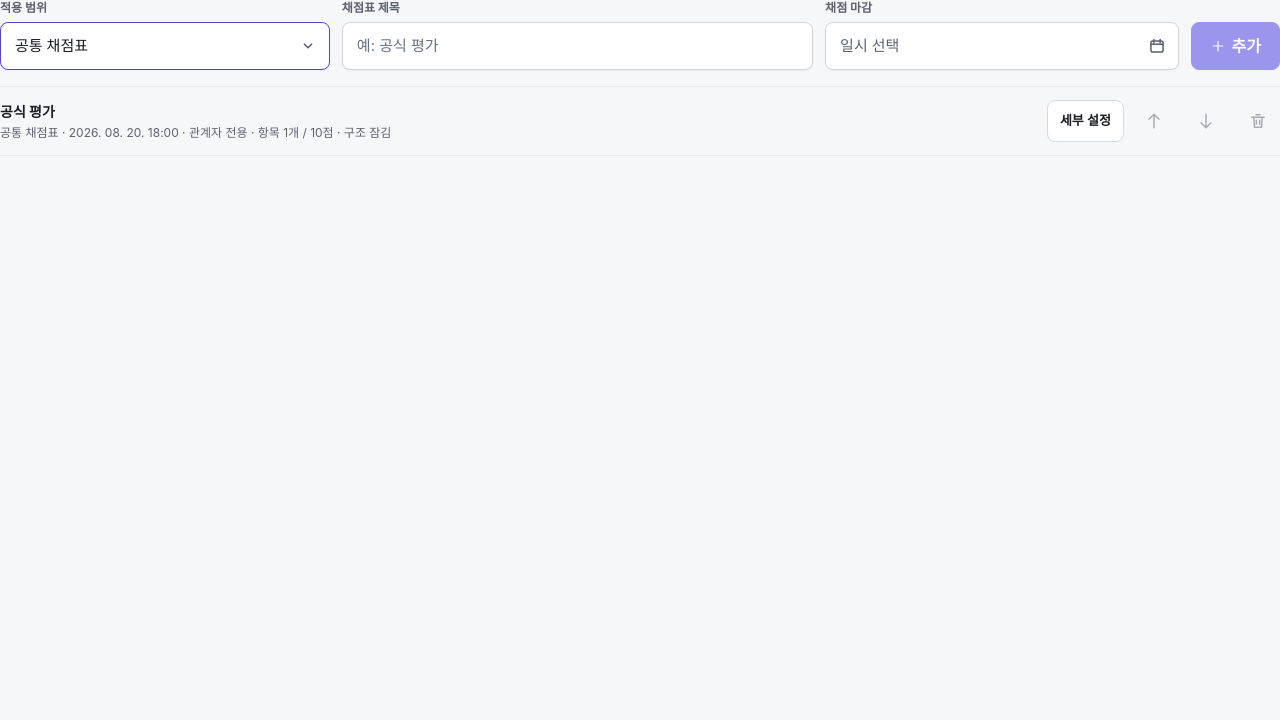
Scenario: RubricManager › 점수가 저장된 채점표는 구조 변경을 잠그되 세부 설정은 열 수 있다
Expected: the button named "공식 평가 채점표 삭제" is disabled, x1=1236 y1=99 x2=1279 y2=143
What coordinates should you click on to do the following:
click the button "세부 설정"
I would click on:
 (1085, 121)
Its box is x1=1047 y1=100 x2=1124 y2=142.
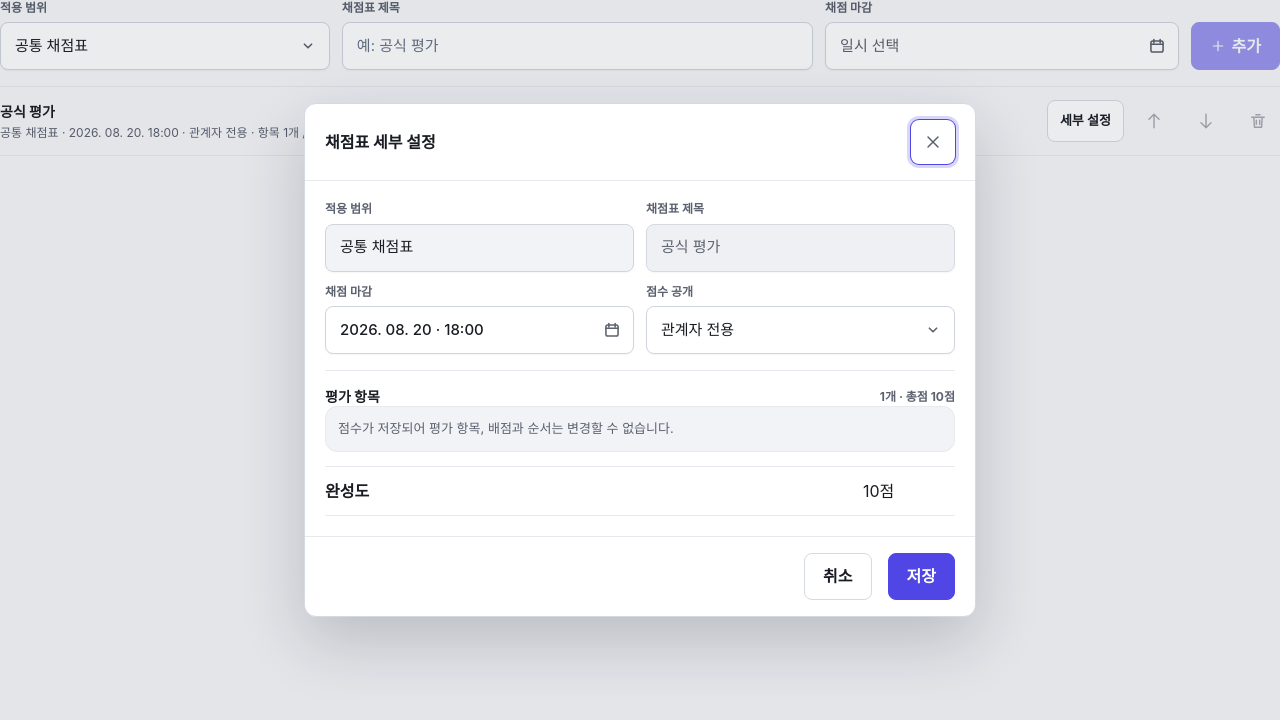
Result: the text "점수가 저장되어 평가 항목, 배점과 순서는 변경할 수 없습니다." is shown at x1=325 y1=406 x2=955 y2=452
